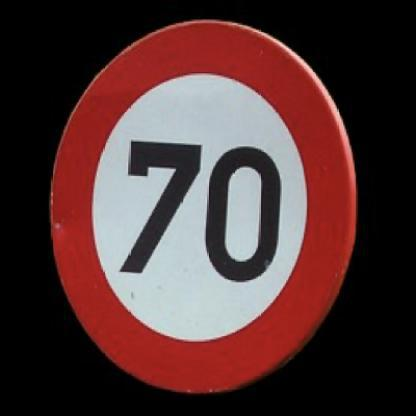speedlimit: (49, 14, 357, 393)
